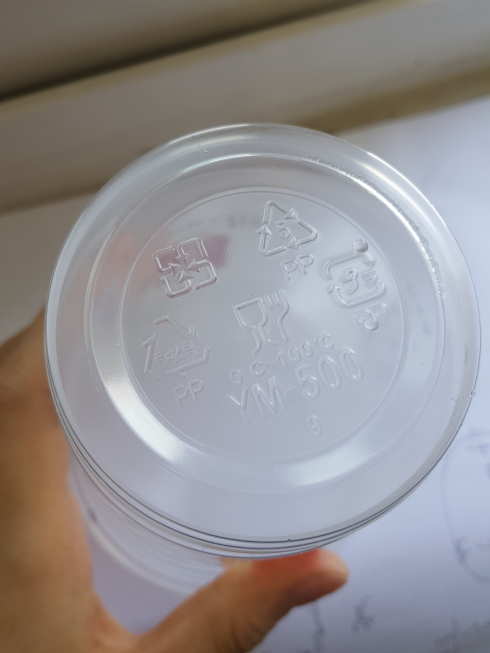recycle: (247, 190, 324, 278)
